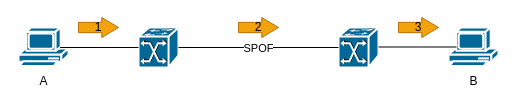
Some shapes in this 516 by 106 pixel diagram are drawn without their labels. Here are the shapes that lost their labels. From the top down, the centre of each, then its label:
(x=158, y=47): S1
(x=358, y=47): S2
